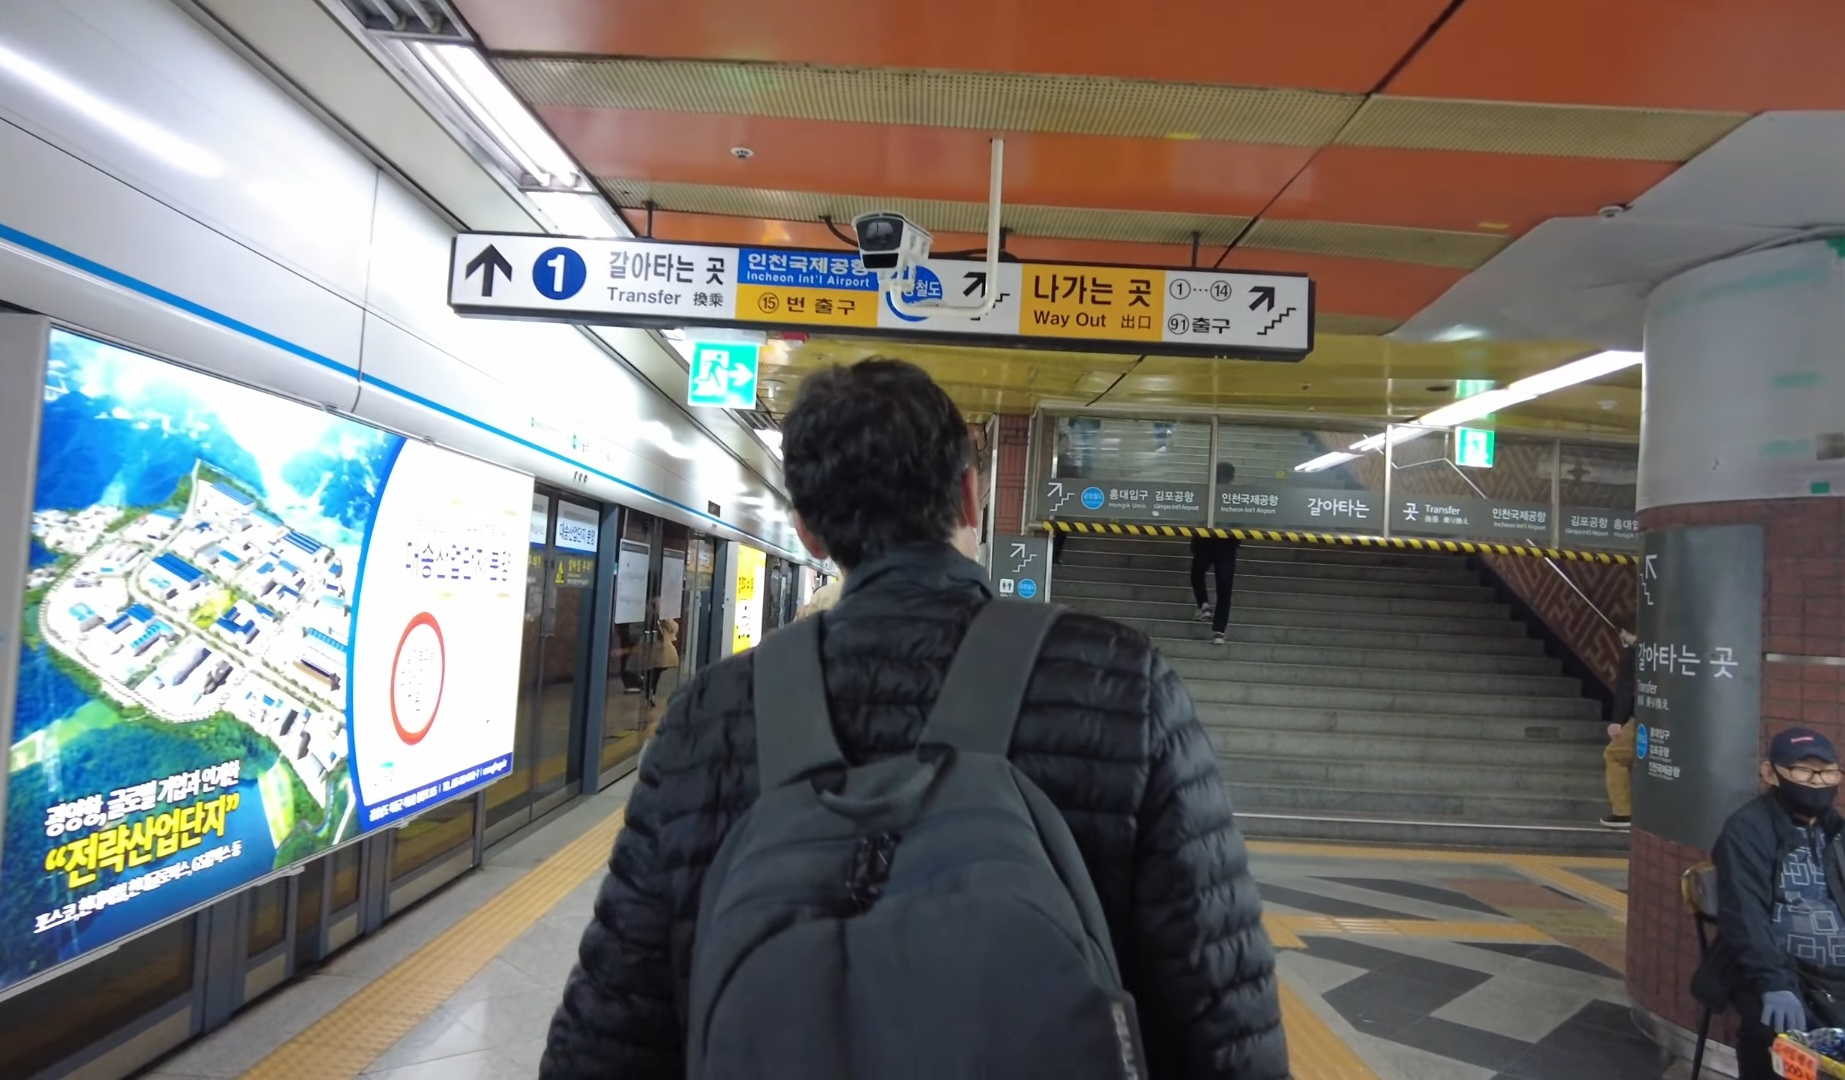signBoard: (442, 228, 1320, 363)
